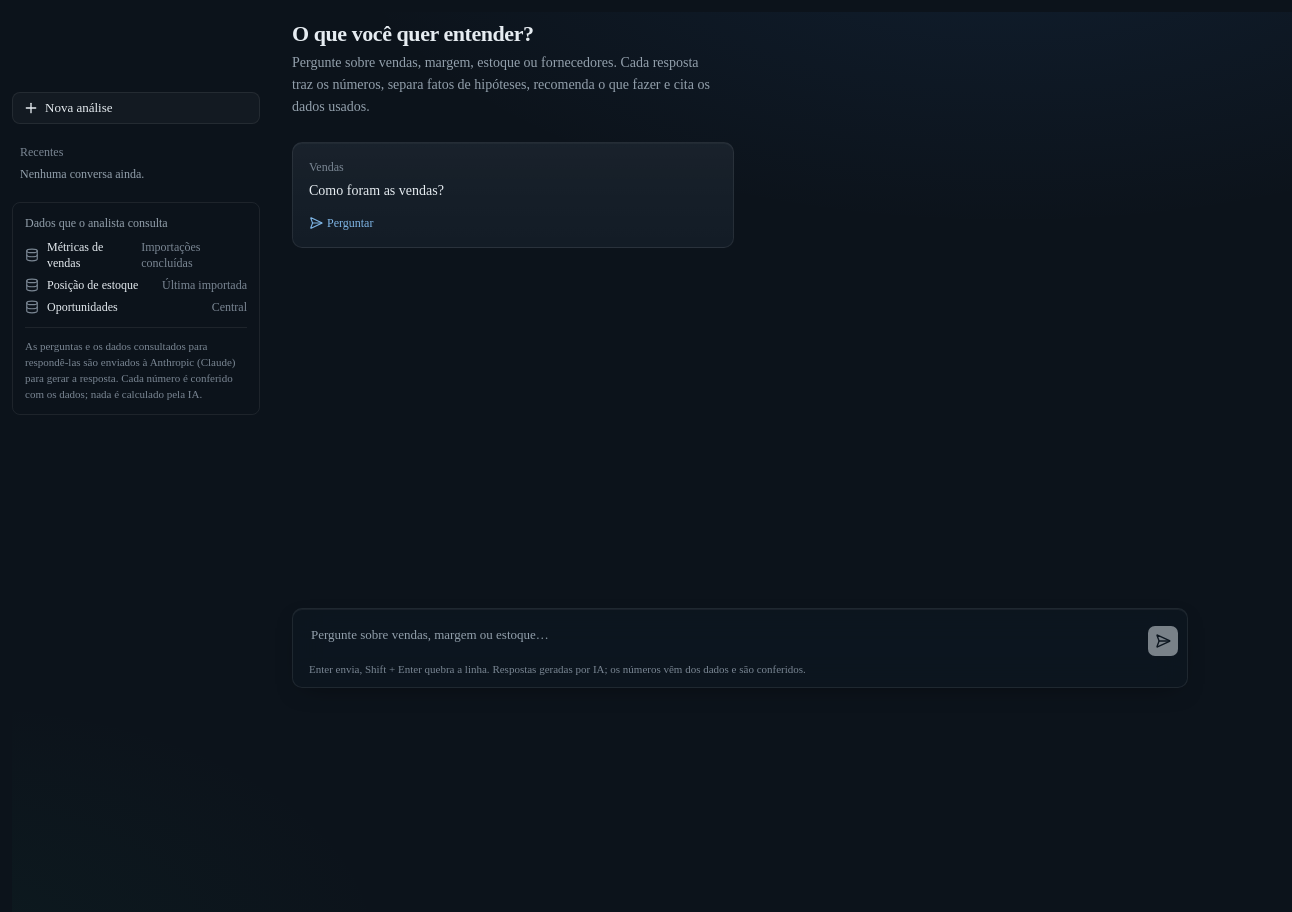
Test: analista ao vivo › organização: envia a pergunta, mostra os passos e a resposta, e segue na mesma conversa
In the text box named "Pergunta para o analista": (720, 637) left=301, top=617, right=1139, bottom=657, type "Como foram as vendas?"
Then press Enter
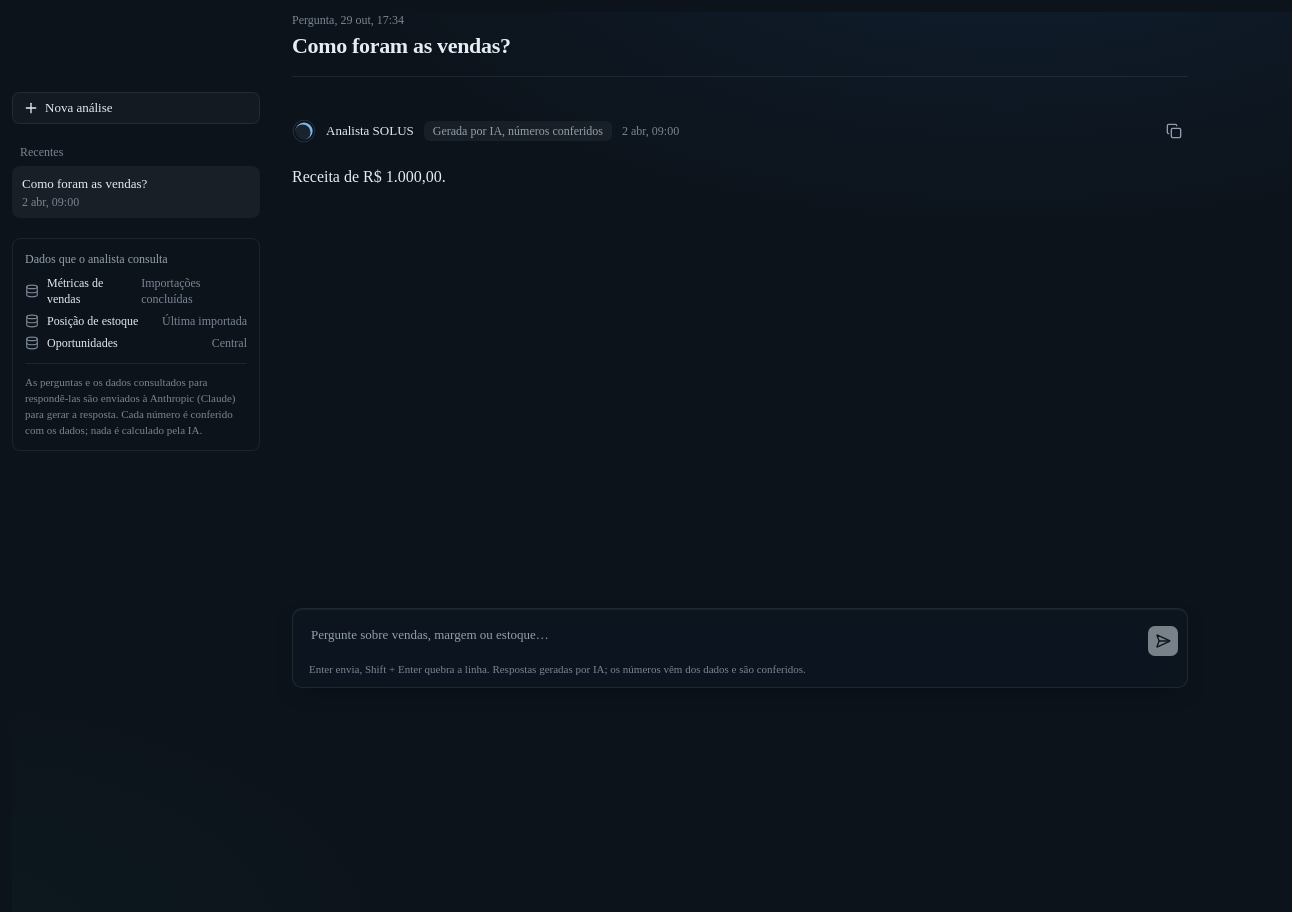
Result: the text "Receita de R$ 1.000,00." is shown at left=292, top=168, right=446, bottom=185
Result: the text "Gerada por IA, números conferidos" is shown at left=424, top=121, right=612, bottom=141
In the text box named "Pergunta para o analista": (720, 637) left=301, top=617, right=1139, bottom=657, type "E a margem?"
Then press Enter
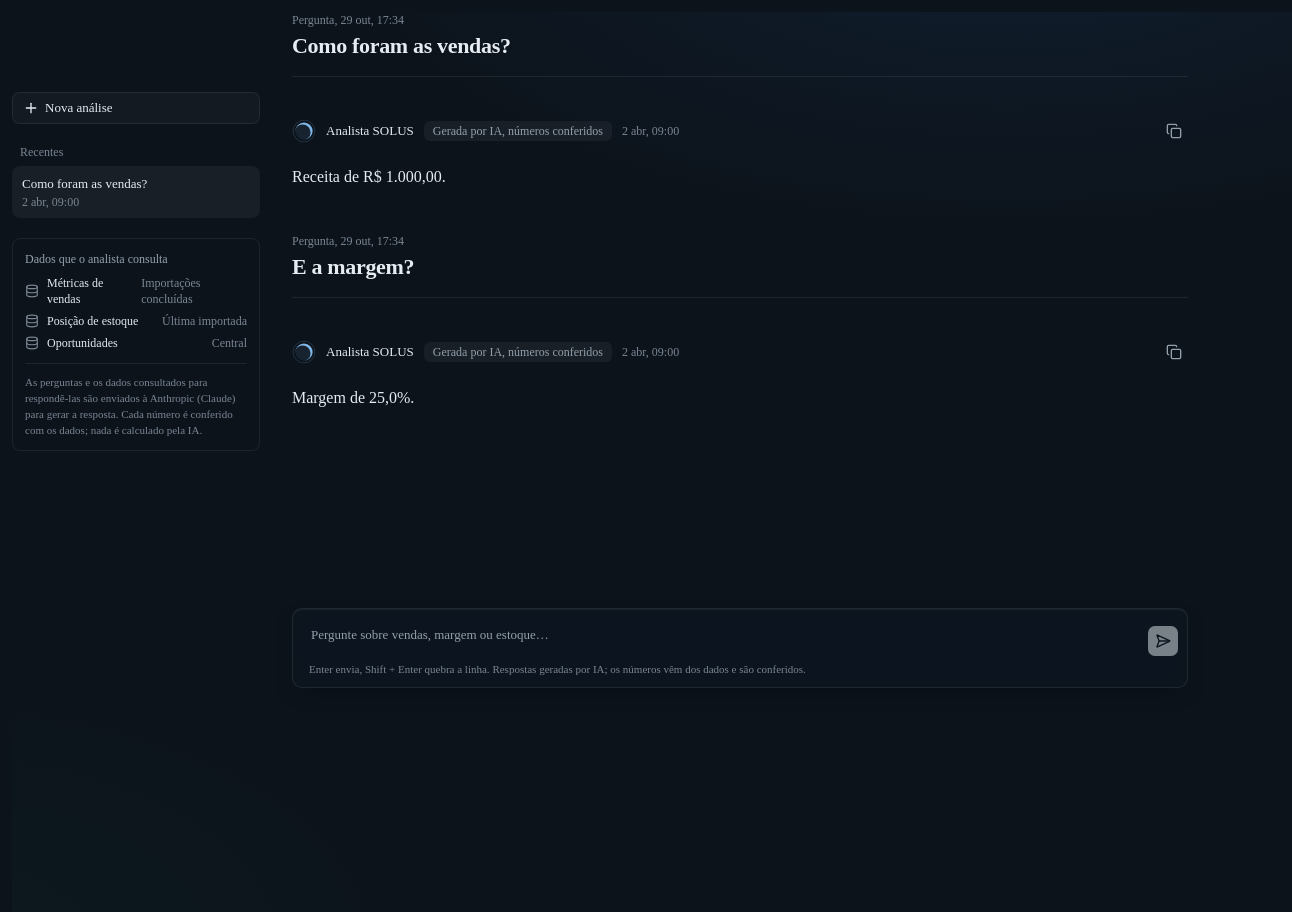
Result: the button "Como foram as vendas? 2 abr, 09:00" is shown at left=12, top=166, right=260, bottom=218
Result: the text "Margem de 25,0%." is shown at left=292, top=389, right=414, bottom=406
